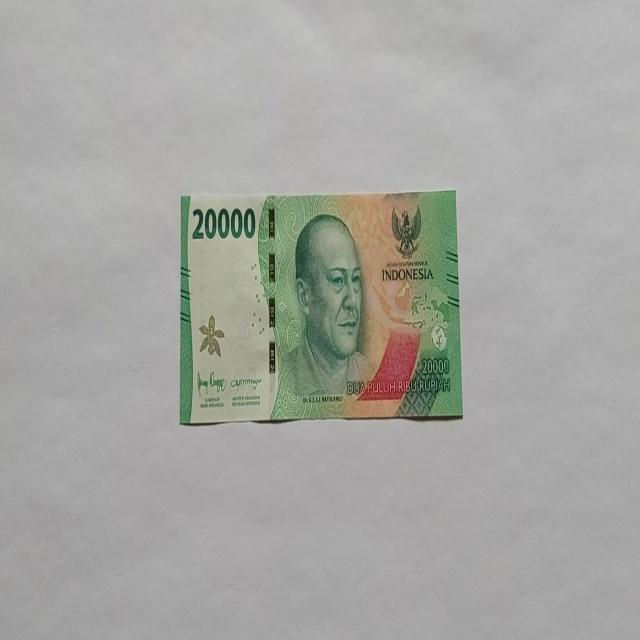dua puluh ribu rupiah: (178, 188, 464, 426), (271, 210, 377, 418)
